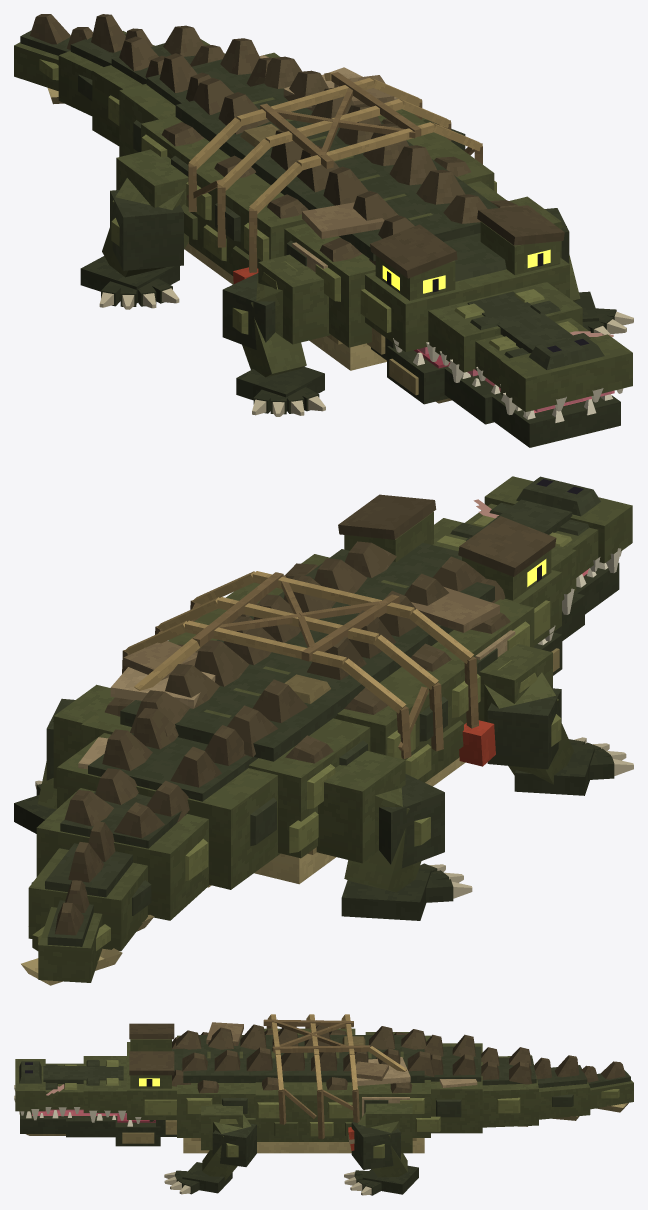
File: fmob_croc.glb
3 views of the same model, one above another, from view 1: azimuth 30°, elevation 25°; view 2: azimuth 150°, elevation 25°; view 3: azimuth 270°, elevation 25° (orthographic). The views are drawn at different scales.
Parts seen in each view (by area): view 1: fmob_croc, head, sway_tail, leg_fr, leg_br, jaw, leg_fl, glow_eyes; view 2: fmob_croc, sway_tail, head, leg_br, leg_fr, leg_bl, jaw; view 3: fmob_croc, sway_tail, head, leg_bl, leg_fl, jaw.
Part boxes in pixels (left/top/right/bottom): fmob_croc: left=141, top=56, right=518, bottom=370; head: left=360, top=205, right=632, bottom=416; sway_tail: left=14, top=14, right=279, bottom=156; leg_fr: left=222, top=254, right=330, bottom=416; leg_br: left=80, top=149, right=188, bottom=309; jaw: left=387, top=346, right=620, bottom=447; leg_fl: left=509, top=196, right=633, bottom=337; glow_eyes: left=382, top=249, right=550, bottom=293; fmob_croc: left=81, top=541, right=534, bottom=884; sway_tail: left=21, top=708, right=280, bottom=985; head: left=338, top=476, right=632, bottom=645; leg_br: left=316, top=751, right=472, bottom=920; leg_fr: left=478, top=644, right=633, bottom=795; leg_bl: left=14, top=684, right=114, bottom=833; jaw: left=534, top=562, right=619, bottom=675; fmob_croc: left=149, top=1014, right=440, bottom=1153; sway_tail: left=424, top=1034, right=633, bottom=1133; head: left=14, top=1023, right=190, bottom=1136; leg_bl: left=344, top=1103, right=418, bottom=1195; leg_fl: left=164, top=1104, right=256, bottom=1194; jaw: left=19, top=1110, right=160, bottom=1146.
Size of the model in its own units: 1.71 by 0.74 by 3.85.
21 materials, 14 textured.
